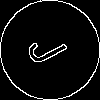J: (25, 25, 78, 69)
